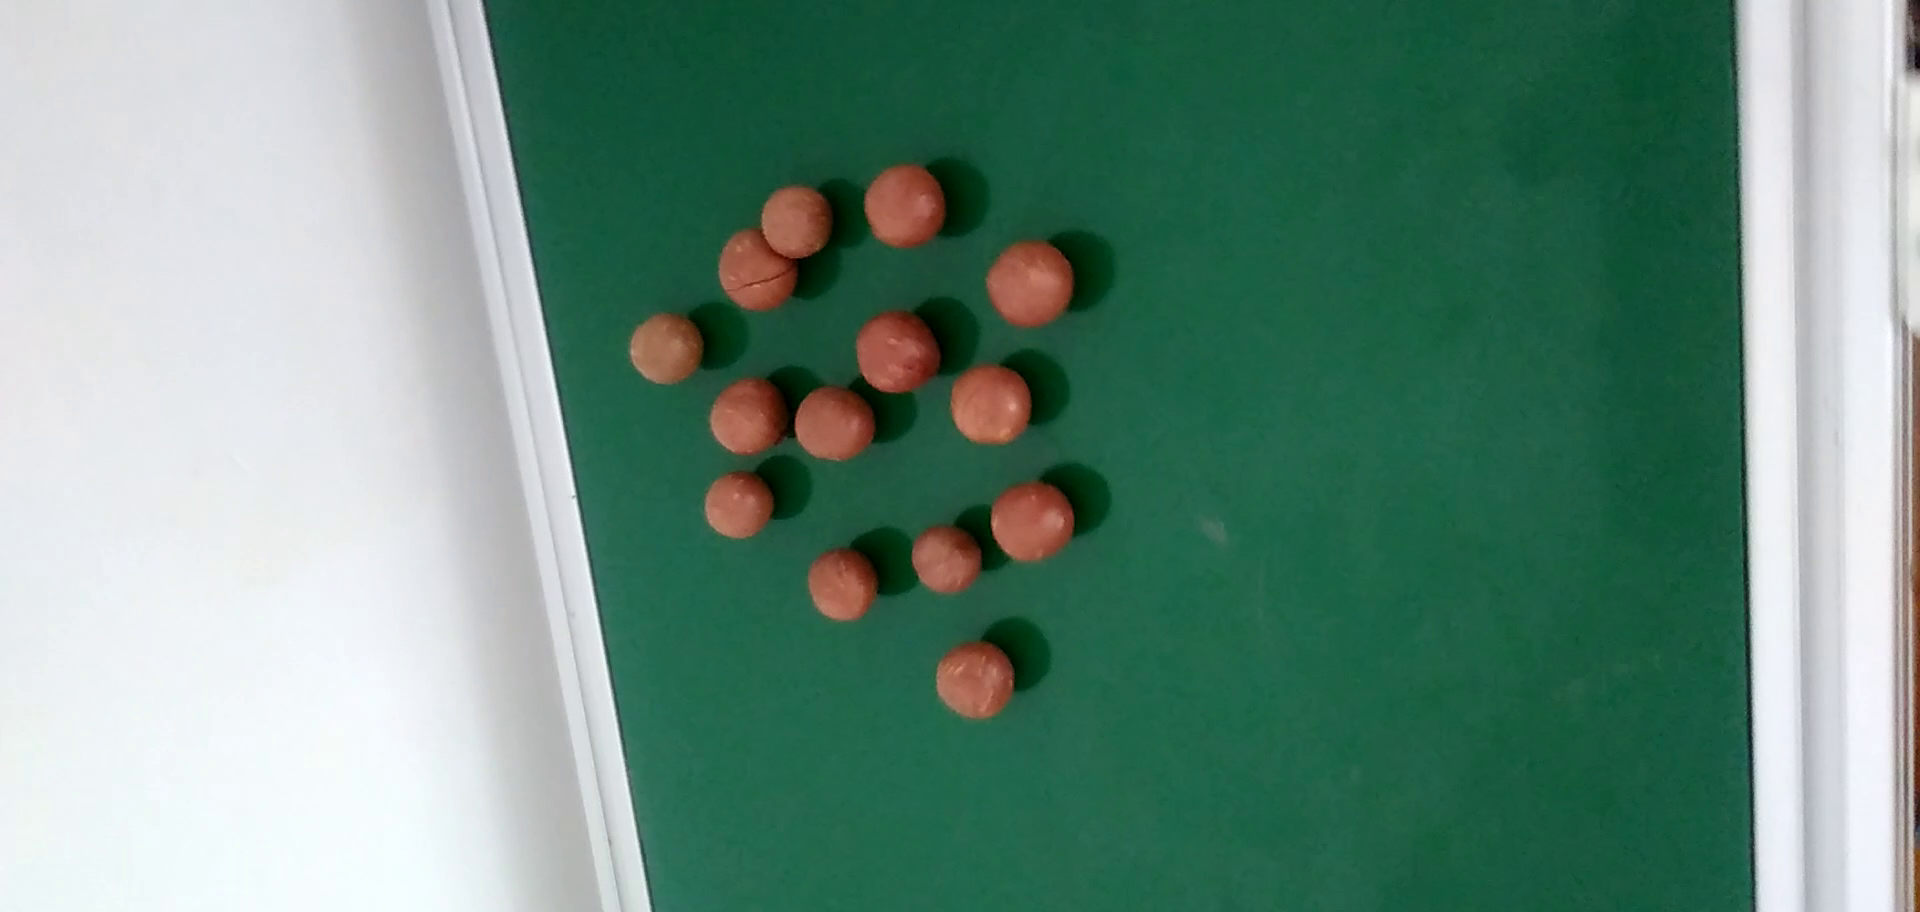mac: (984, 239, 1071, 326), (860, 162, 943, 249), (714, 229, 800, 308), (856, 311, 939, 392), (988, 482, 1074, 558), (934, 643, 1016, 721), (950, 367, 1027, 446), (758, 182, 831, 258), (628, 311, 704, 384), (797, 386, 874, 458), (804, 545, 874, 622), (714, 379, 782, 452), (705, 471, 773, 537), (913, 524, 981, 590)
